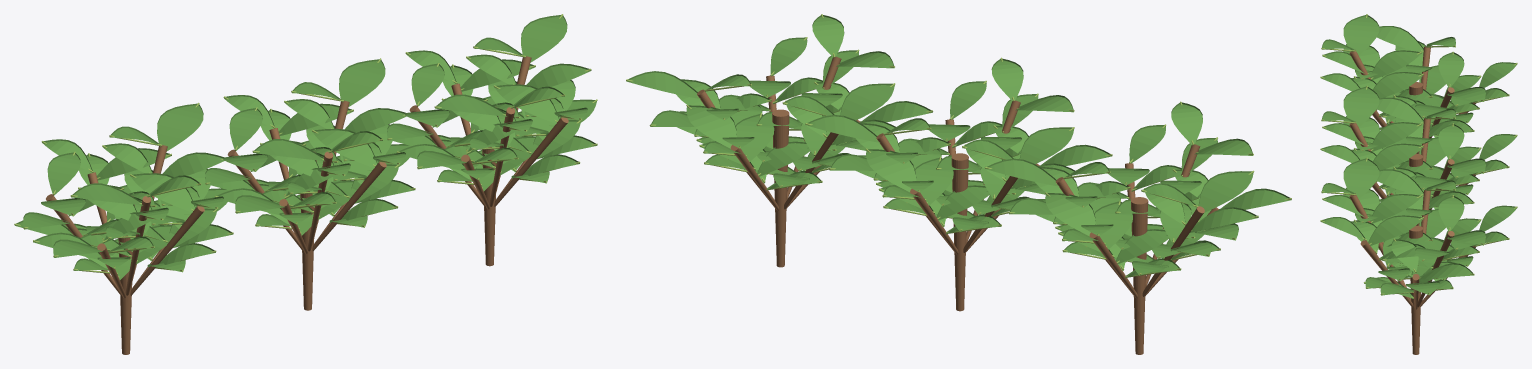
File: tea-garden-and-processing-house-tea-garden-and-process-47ad4276__30750.glb
3 renders of one model, left to right at view 1: azimuth 30°, elevation 25°; view 2: azimuth 150°, elevation 25°; view 3: azimuth 270°, elevation 25°, orthographic. The views are drawn at different scales.
Visible parts, largest first — view 1: tea-garden-and-processing-house-tea-hedge-straight; view 2: tea-garden-and-processing-house-tea-hedge-straight; view 3: tea-garden-and-processing-house-tea-hedge-straight.
Part boxes in pixels (x1,y1,x2,y2): tea-garden-and-processing-house-tea-hedge-straight: [14, 14, 597, 354]; tea-garden-and-processing-house-tea-hedge-straight: [626, 14, 1291, 354]; tea-garden-and-processing-house-tea-hedge-straight: [1320, 14, 1517, 354].
Bounding box in the file's own units: 2.02 × 0.6795 × 0.7208.
